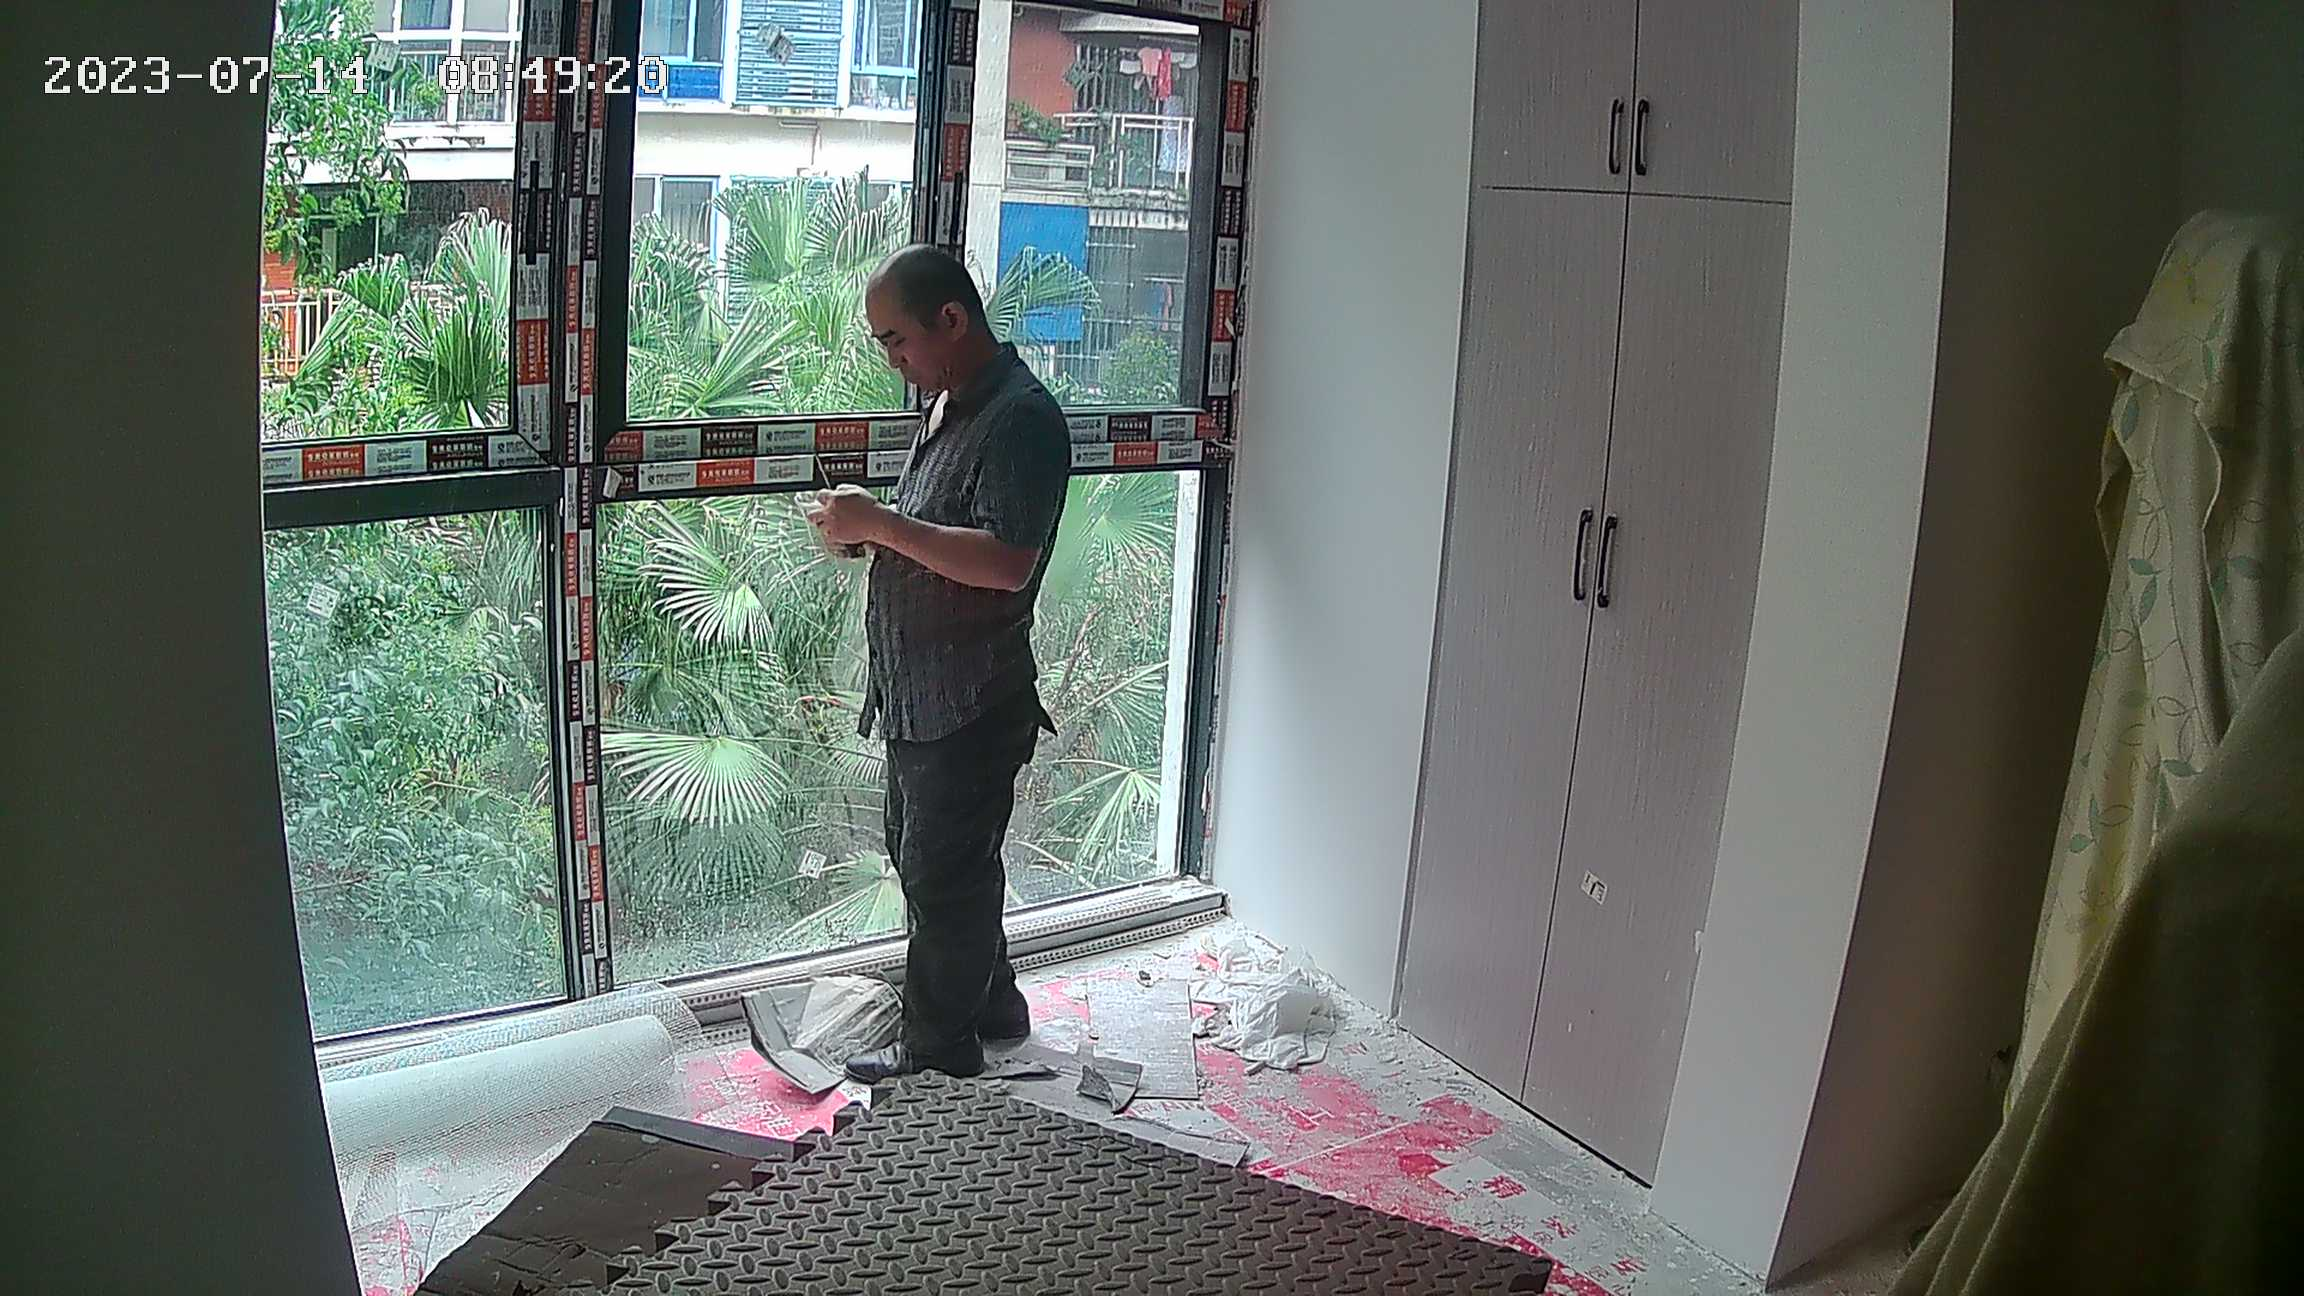people: (799, 241, 1063, 1090)
window: (262, 11, 1219, 996)
